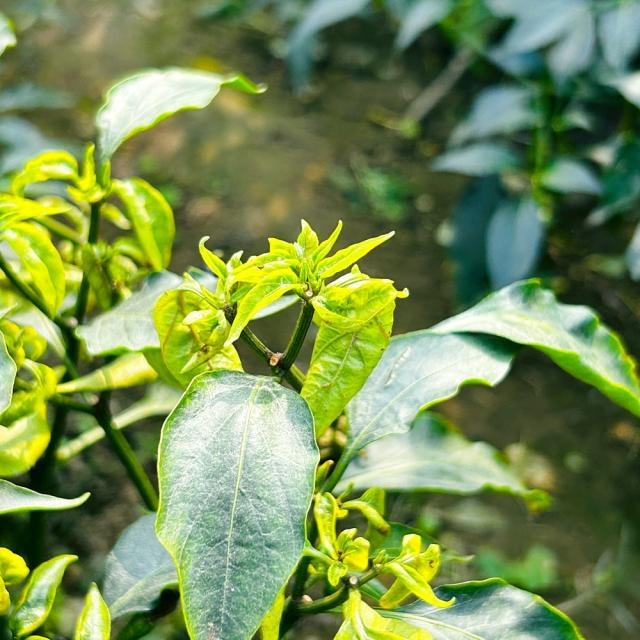Chilli_Leaf_Curl: (0, 65, 638, 638), (323, 276, 639, 507), (152, 217, 410, 438), (153, 367, 321, 639), (220, 217, 401, 349), (92, 65, 268, 168)
